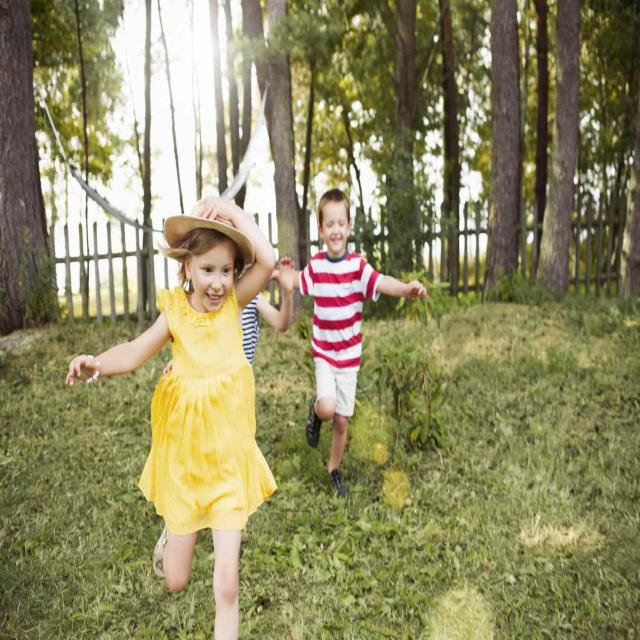Person: (65, 194, 278, 640), (265, 187, 427, 500)
